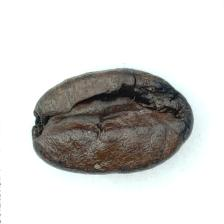NG: (79, 69, 195, 145)
